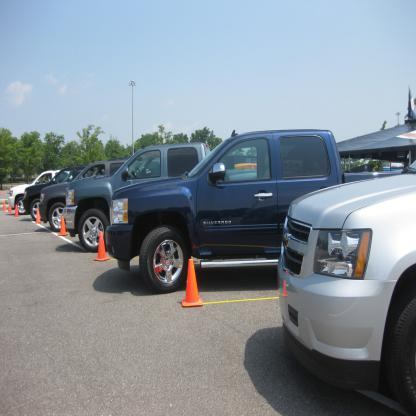Truck: (104, 128, 405, 292), (61, 144, 257, 252), (42, 159, 158, 230), (23, 166, 84, 223)
